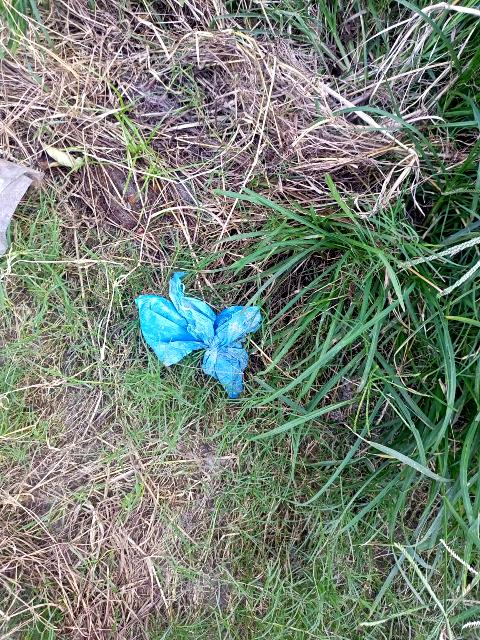polythene: (108, 229, 315, 446)
